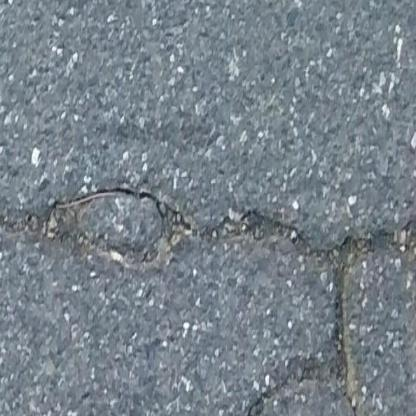Cracks: (0, 183, 416, 416)
